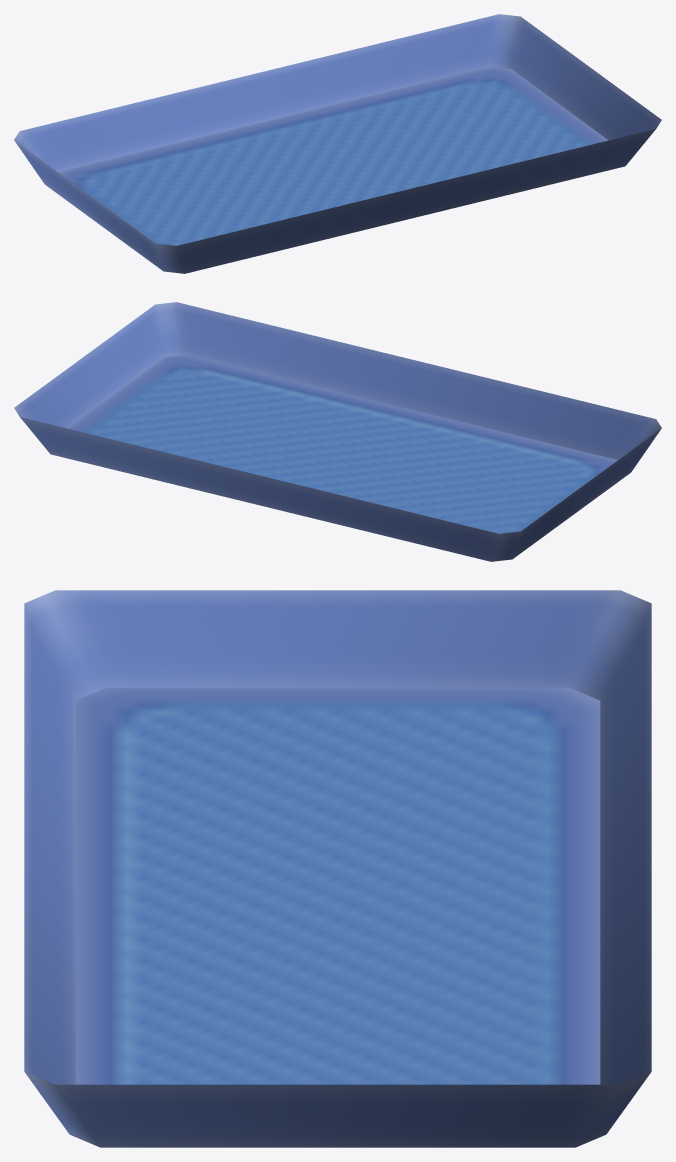
File: jsf_Carton_01.fbx
3 views of the same model, one above another, from view 1: azimuth 30°, elevation 25°; view 2: azimuth 150°, elevation 25°; view 3: azimuth 270°, elevation 25° (orthographic). The views are drawn at different scales.
Parts seen in each view (by area): view 1: jsf_Carton_01; view 2: jsf_Carton_01; view 3: jsf_Carton_01.
Part boxes in pixels (<box>): jsf_Carton_01: <box>14,14,661,273</box>; jsf_Carton_01: <box>14,302,661,561</box>; jsf_Carton_01: <box>24,590,651,1147</box>.
Size of the model in its own units: 29.1 by 2.25 by 15.6.
